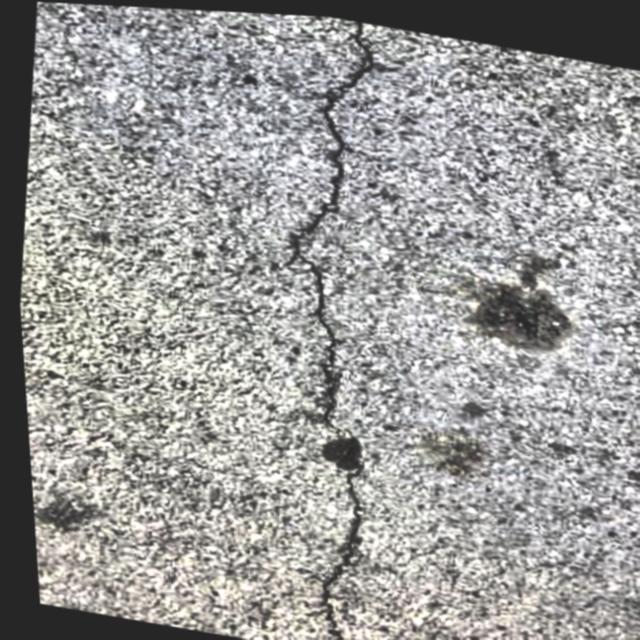Clogged Drains: (232, 11, 408, 640)
